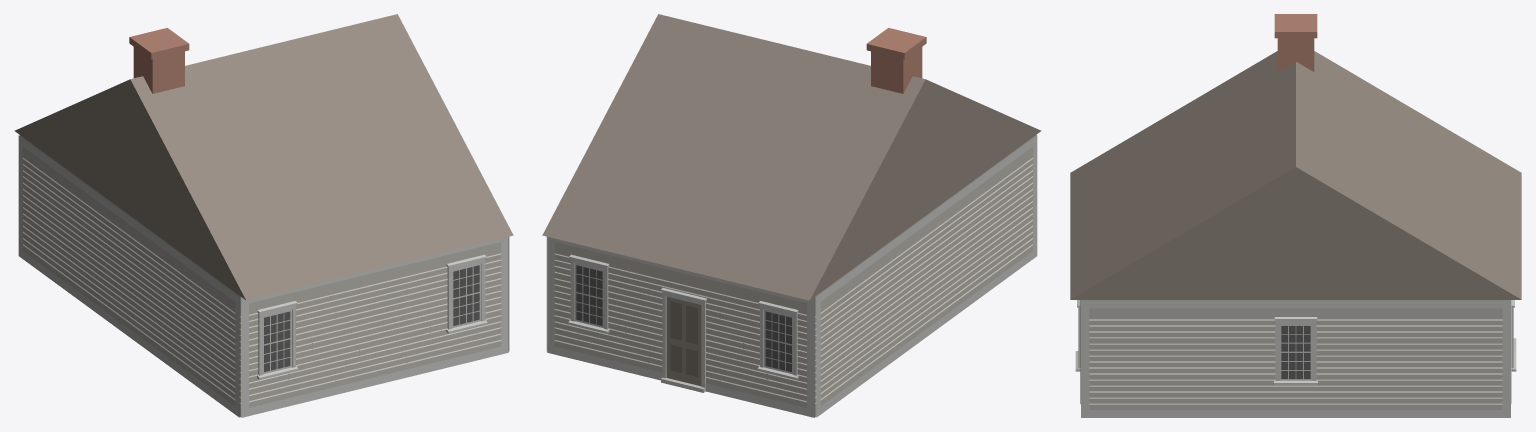
File: recon_1835_blk_school_section_tier_118_d5_02__inferred_1835.glb
3 views of the same model, side by side, from view 1: azimuth 30°, elevation 25°; view 2: azimuth 150°, elevation 25°; view 3: azimuth 270°, elevation 25° (orthographic). The views are drawn at different scales.
Parts seen in each view (by area): view 1: recon_1835_blk_school_section_tier_118_d5_02__inferred_1835; view 2: recon_1835_blk_school_section_tier_118_d5_02__inferred_1835; view 3: recon_1835_blk_school_section_tier_118_d5_02__inferred_1835.
Part boxes in pixels (x1,y1,x2,y2): recon_1835_blk_school_section_tier_118_d5_02__inferred_1835: (14, 14, 513, 417); recon_1835_blk_school_section_tier_118_d5_02__inferred_1835: (542, 14, 1041, 417); recon_1835_blk_school_section_tier_118_d5_02__inferred_1835: (1070, 14, 1521, 417).
Size of the model in its own units: 7.04 by 7.12 by 10.36.
